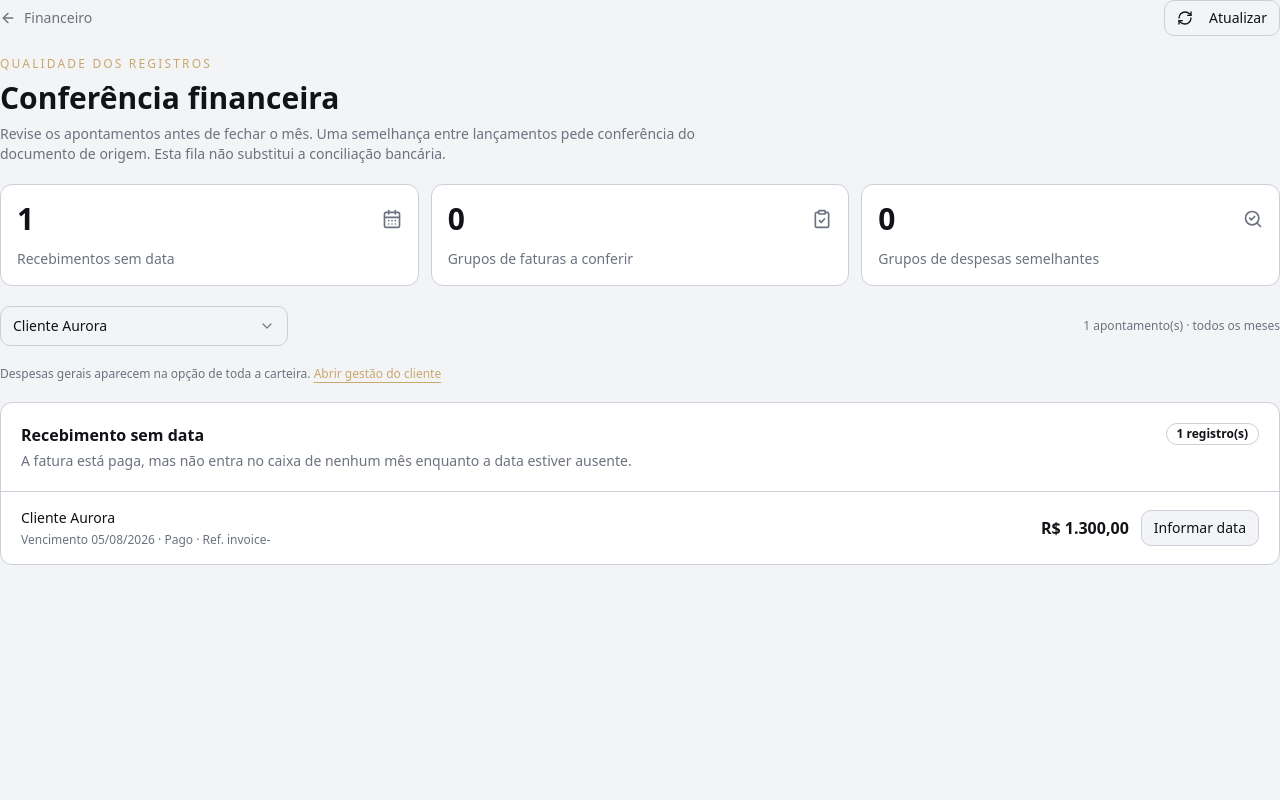
Test: conferência só grava a data informada para uma fatura paga que continua sem data
Step 1. Click the button "Informar data" → (1200, 528), box [1141,510,1259,546]
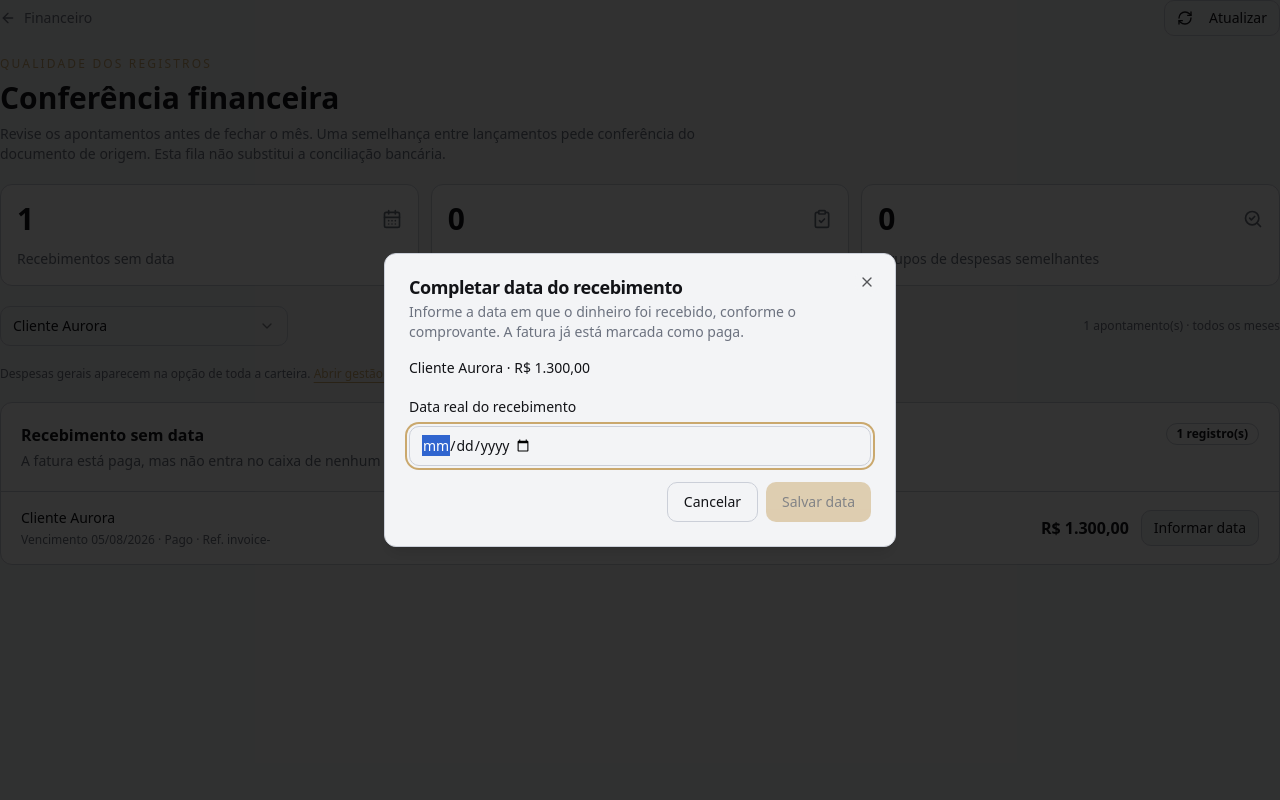
Step 2. Type "2026-08-05" into the date field labelled "Data real do recebimento" → (640, 446), box [409,426,871,466]
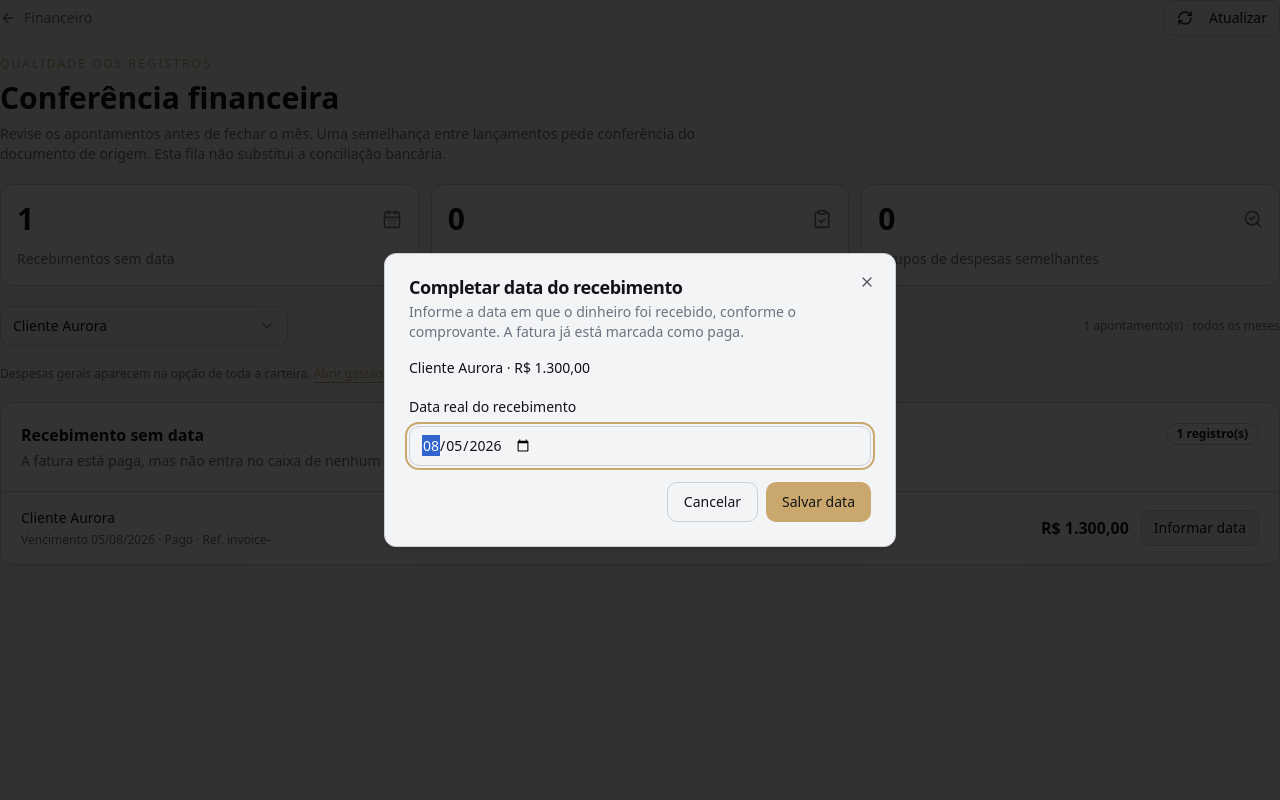
Step 3. Click the button "Salvar data" → (819, 502), box [766,482,871,522]
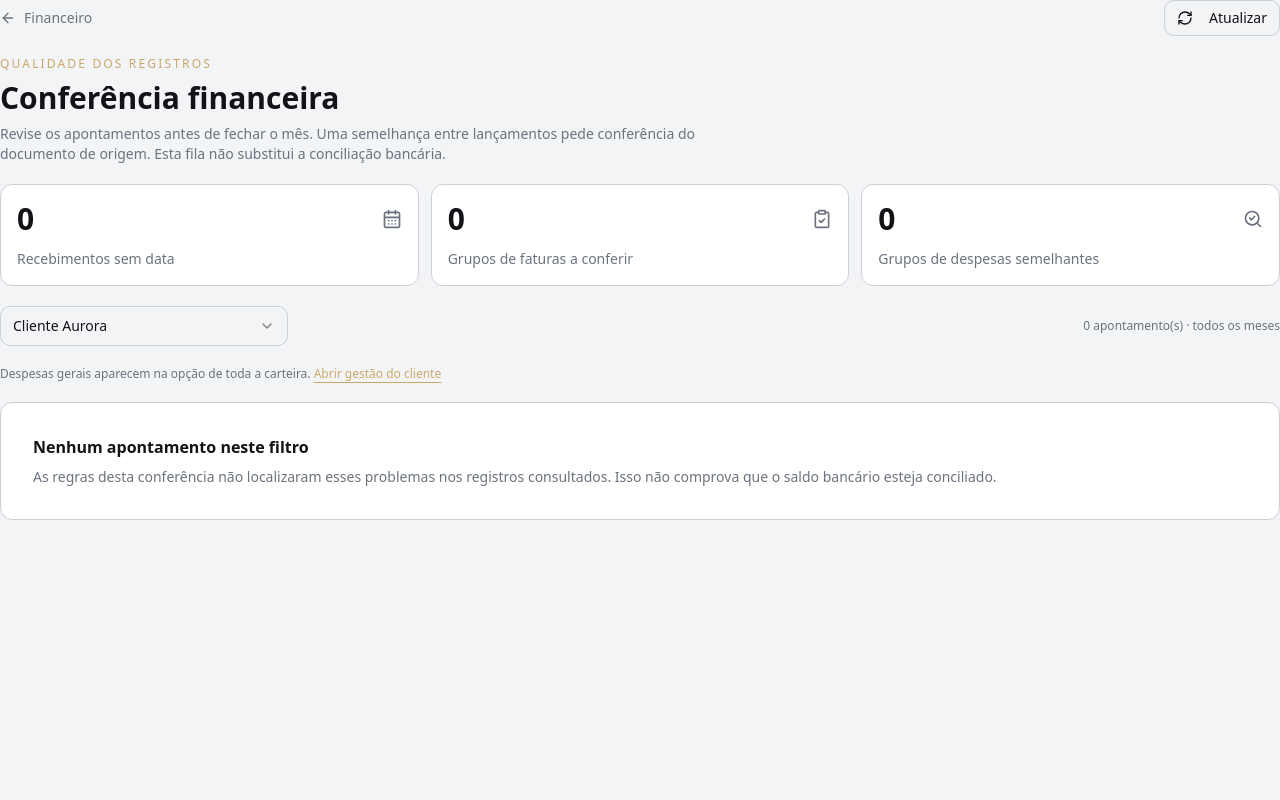
Expected: the heading "Nenhum apontamento neste filtro" is shown, [33,436,309,458]
